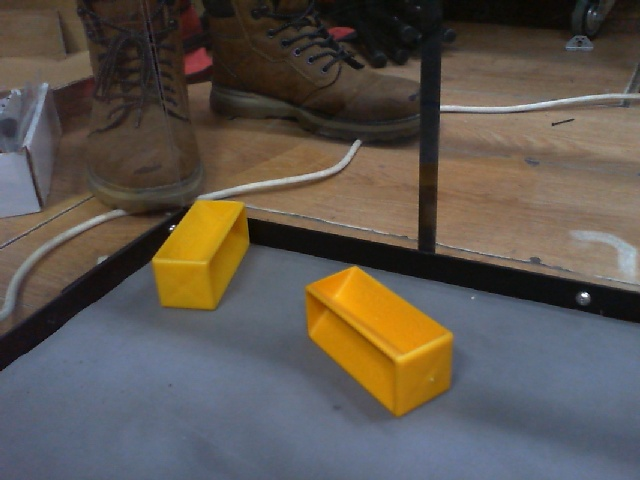YellowSample: (304, 263, 459, 423), (148, 196, 251, 316)
